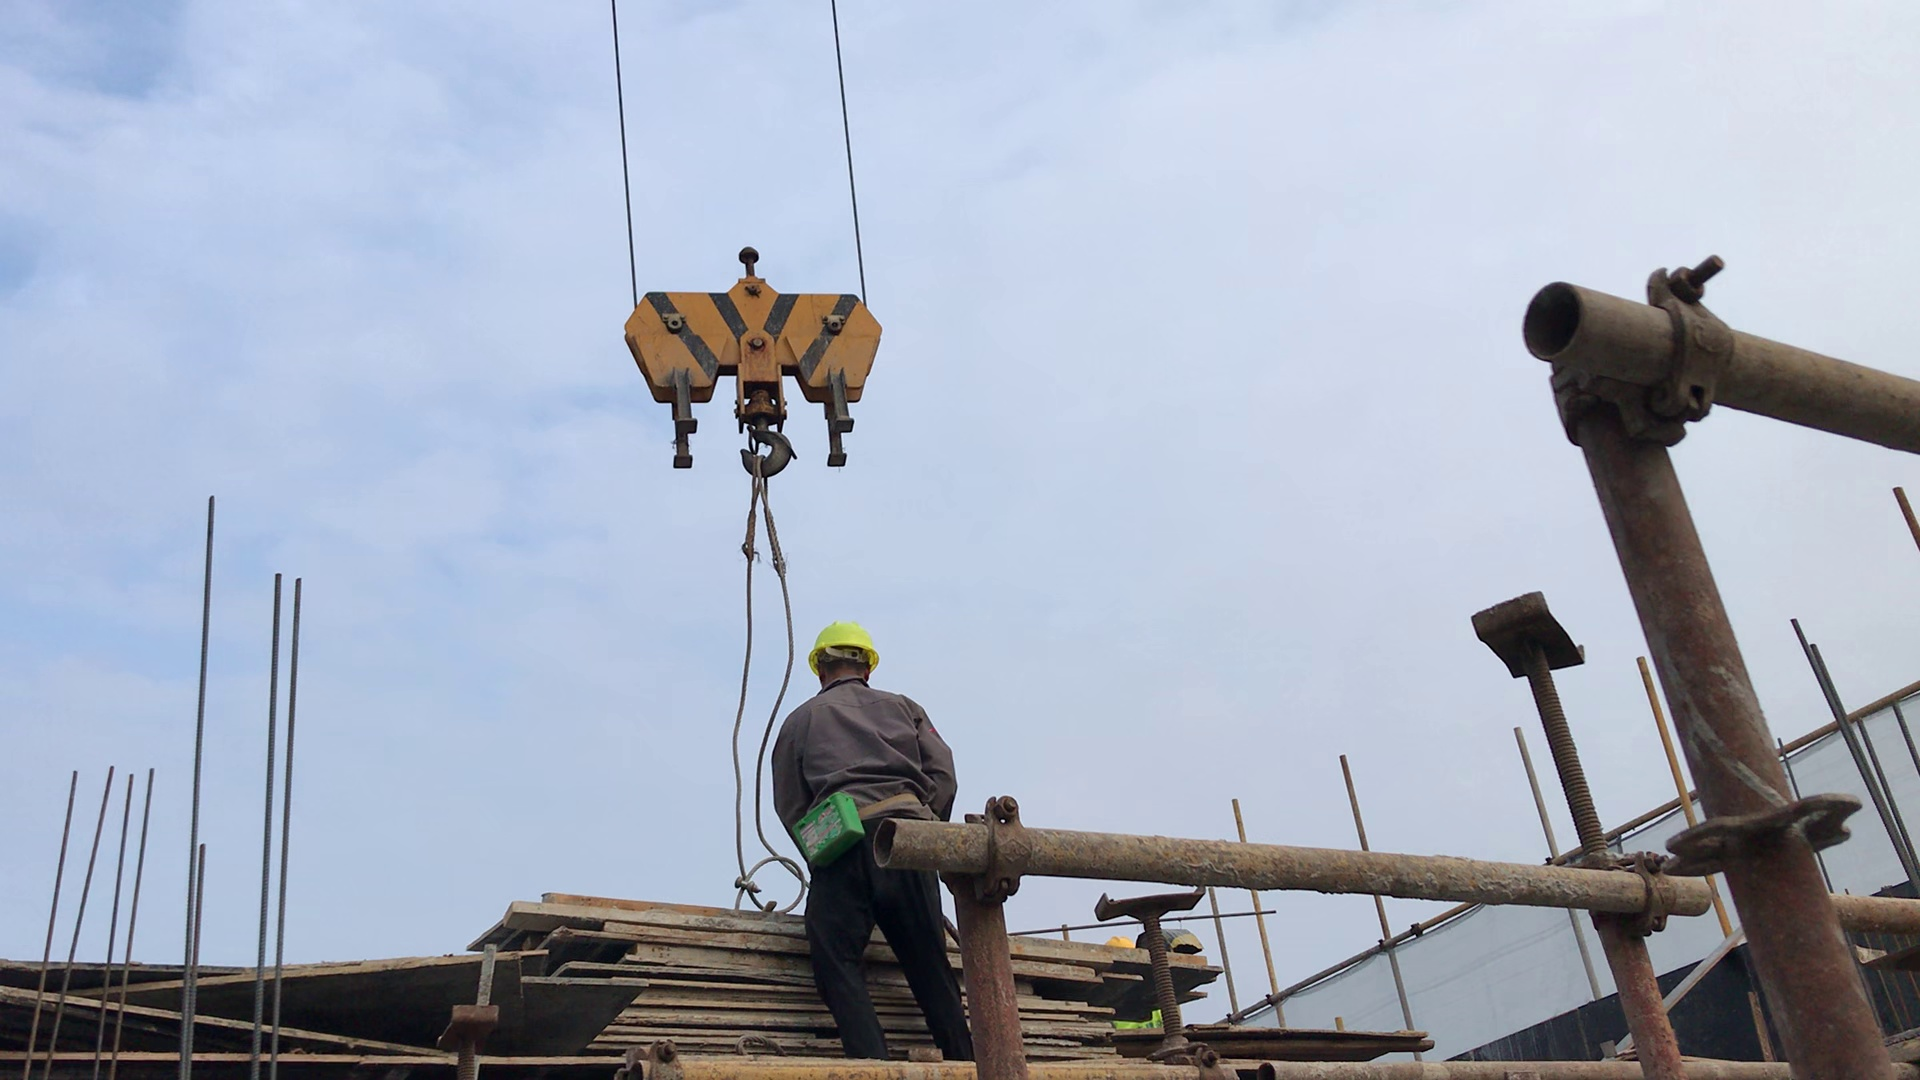board: (458, 883, 807, 1060)
helmet: (807, 624, 884, 682), (1106, 935, 1134, 949)
hook: (621, 249, 888, 483)
person: (771, 620, 977, 1067)
